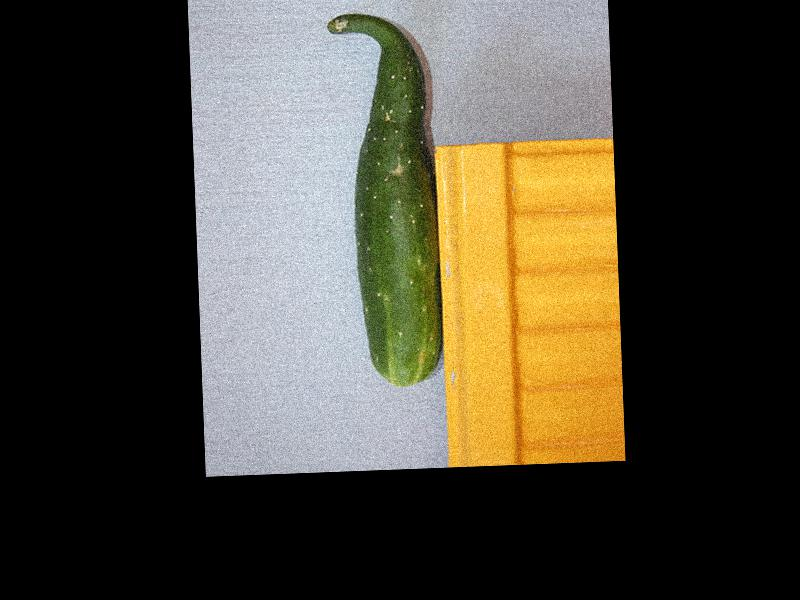Cucumber: (326, 9, 444, 386)
